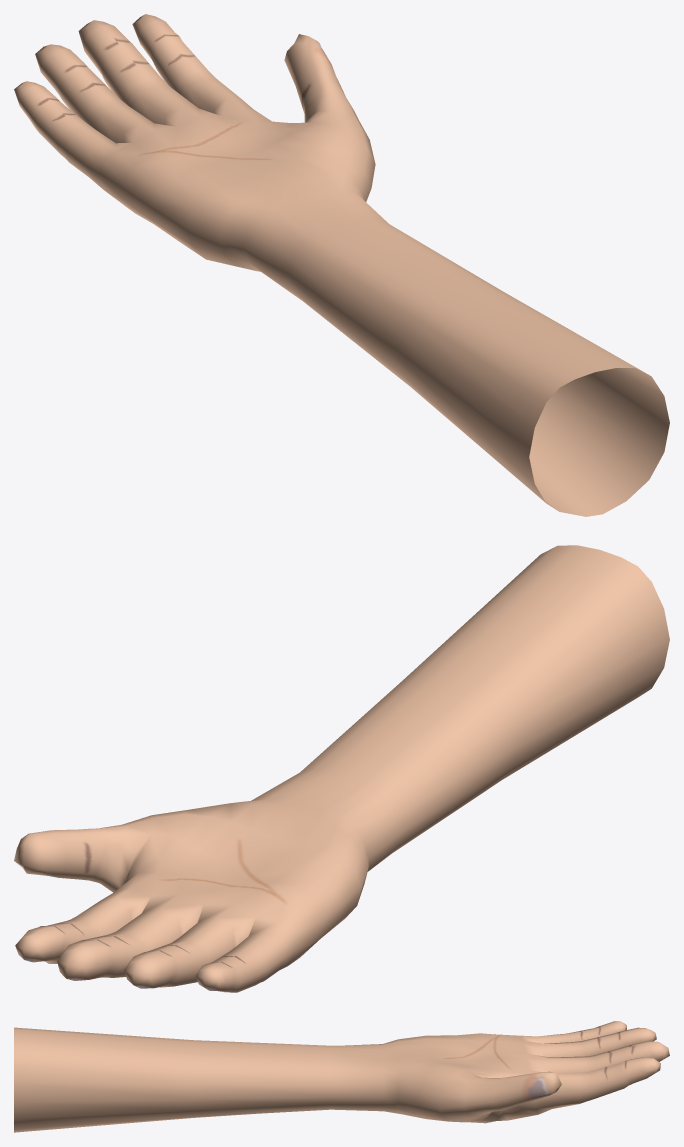
The model's file is hand.dae.
3 renders of one model, top to bottom at view 1: azimuth 30°, elevation 25°; view 2: azimuth 150°, elevation 25°; view 3: azimuth 270°, elevation 25°, orthographic. The views are drawn at different scales.
Visible parts, largest first — view 1: hand; view 2: hand; view 3: hand.
Boxes of the visible parts, x1,y1,x2,y2 form: hand: (14, 14, 669, 516); hand: (14, 545, 669, 992); hand: (14, 1021, 669, 1132).
Bounding box in the file's own units: 0.2877 × 1.01 × 0.1618.
1 material, 1 textured.
